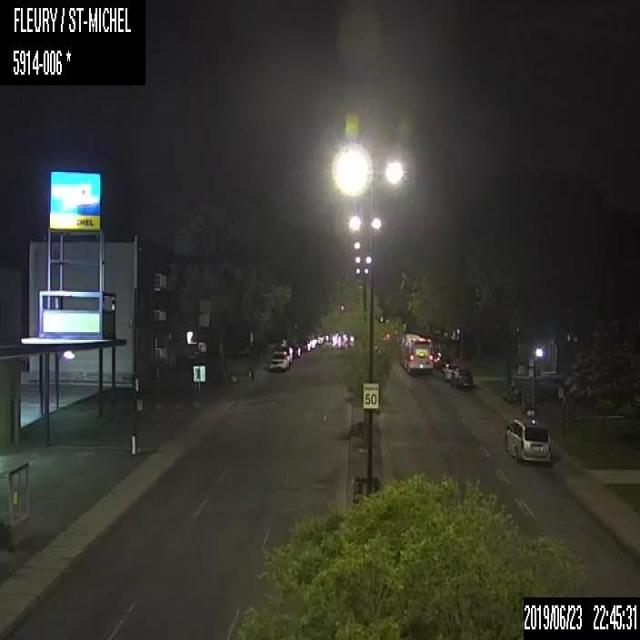bus: (398, 331, 435, 376)
vehicle: (502, 412, 552, 463), (266, 347, 290, 372), (454, 367, 474, 391), (433, 350, 450, 370), (442, 362, 459, 380)
